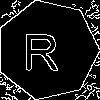R: (22, 25, 59, 70)
